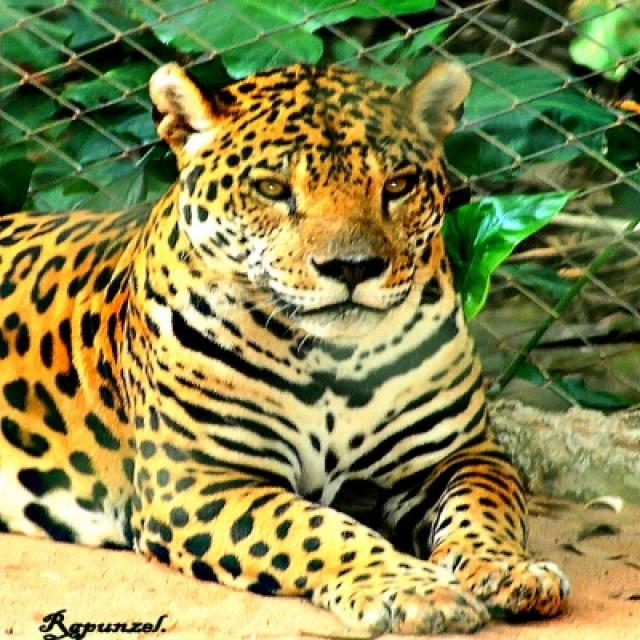Jaguar: (0, 61, 568, 638)
